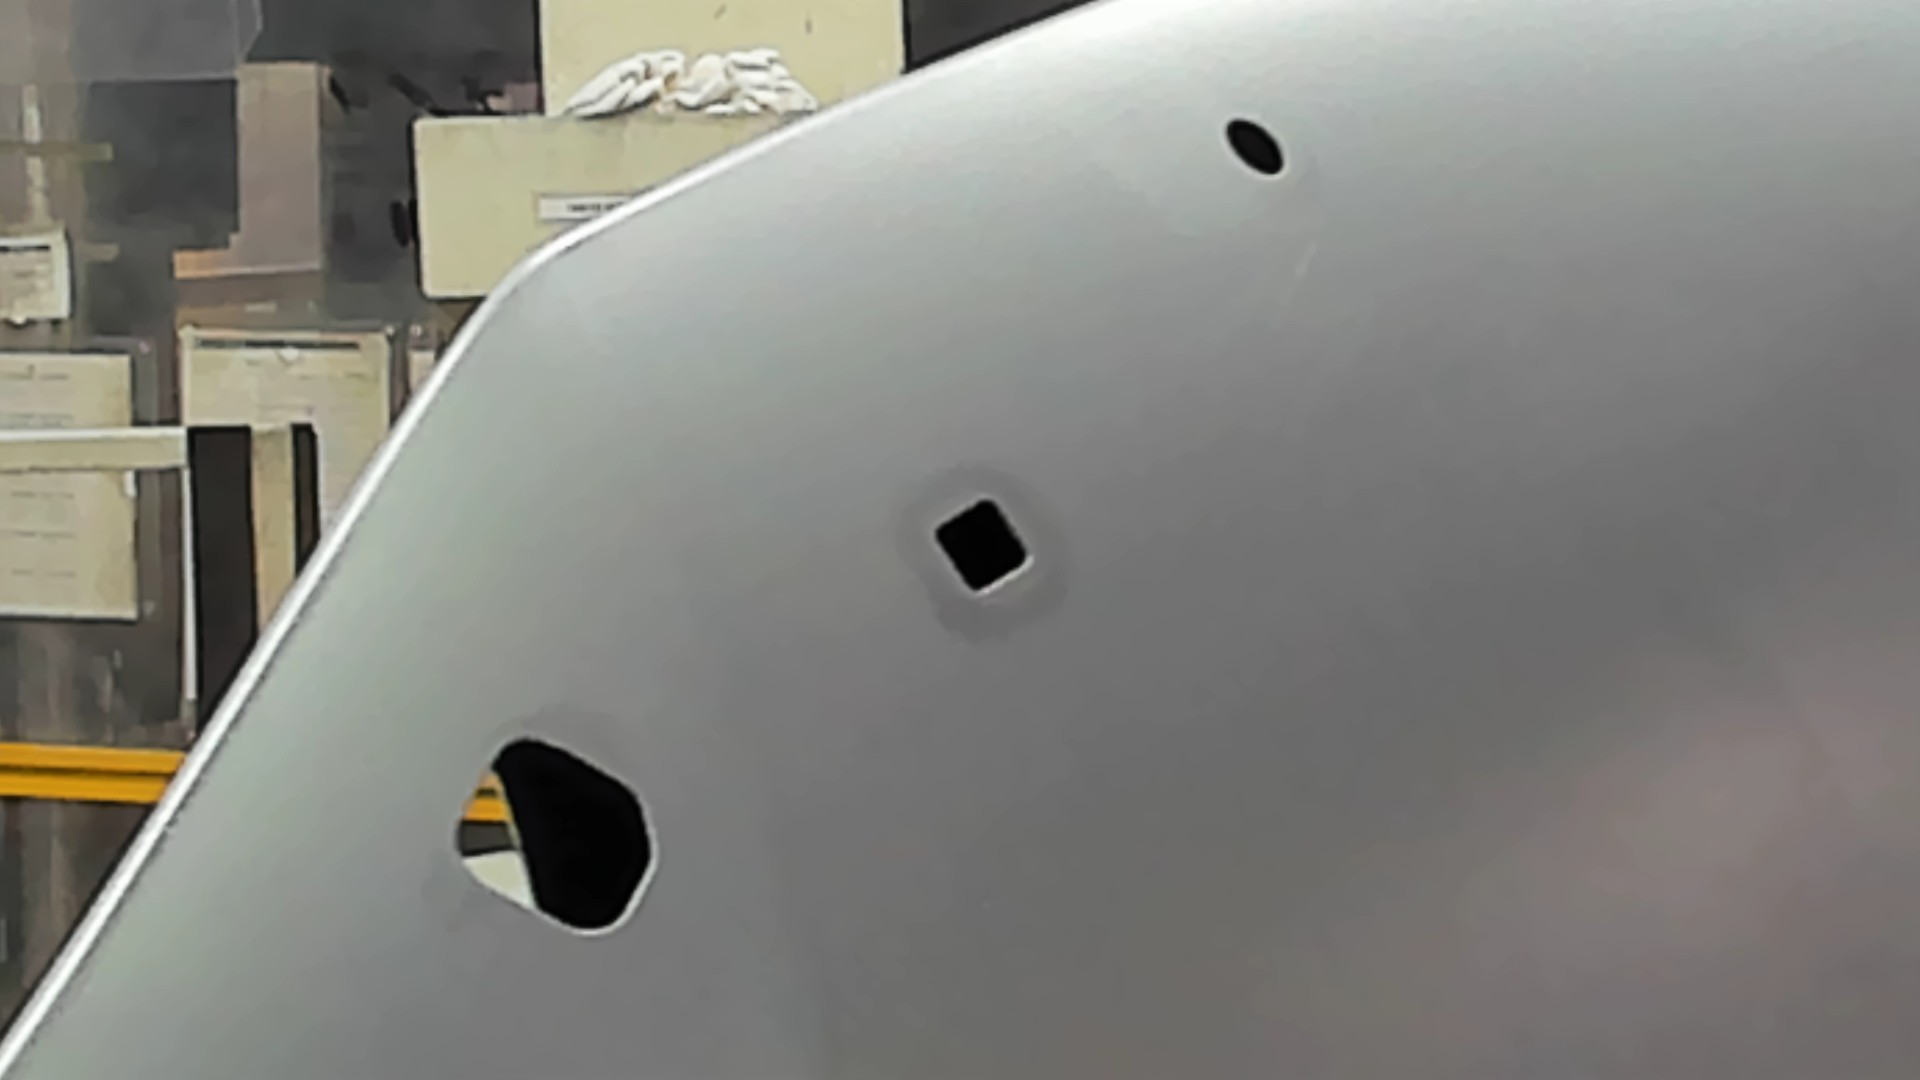chico: (1215, 109, 1295, 181)
grande: (447, 728, 666, 942)
mediano: (924, 491, 1038, 600)
